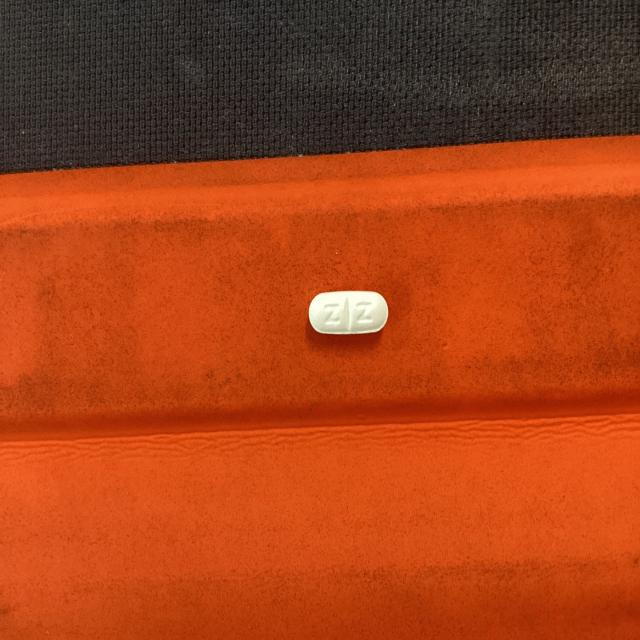-: (304, 274, 396, 350)
